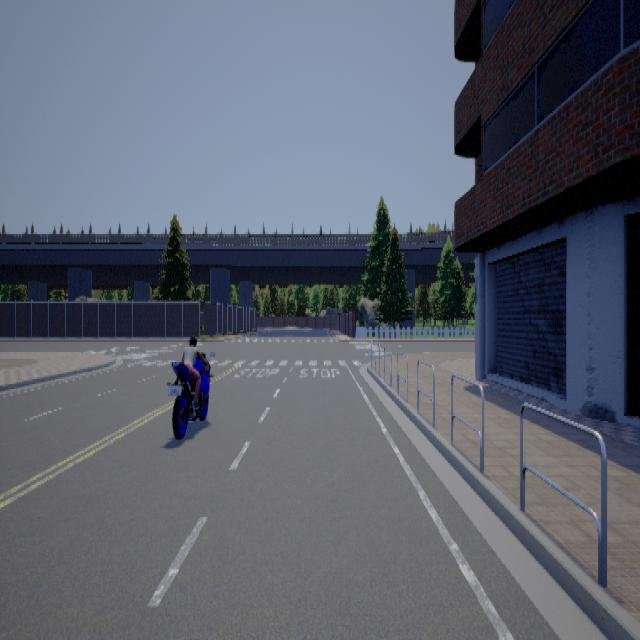motobike: (166, 332, 216, 438)
